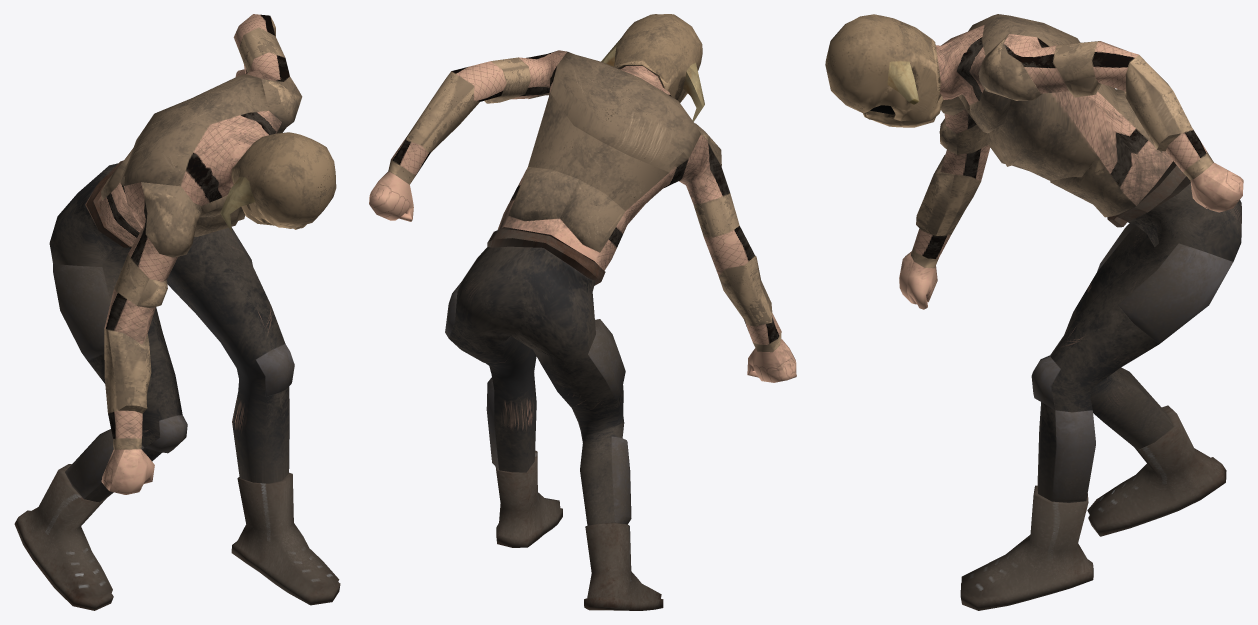
File: Anim_cogerobjeto_npc1.0025.obj
The picture shows the model from 3 angles, left to right: view 1: azimuth 30°, elevation 25°; view 2: azimuth 150°, elevation 25°; view 3: azimuth 270°, elevation 25°; orthographic projection. The views are drawn at different scales.
Visible parts, largest first — view 1: NPC2; view 2: NPC2; view 3: NPC2.
Boxes of the visible parts, x1,y1,x2,y2 form: NPC2: (14, 14, 340, 610); NPC2: (369, 14, 796, 610); NPC2: (825, 14, 1243, 610).
Size of the model in its own units: 4.18 by 7.03 by 4.68.
